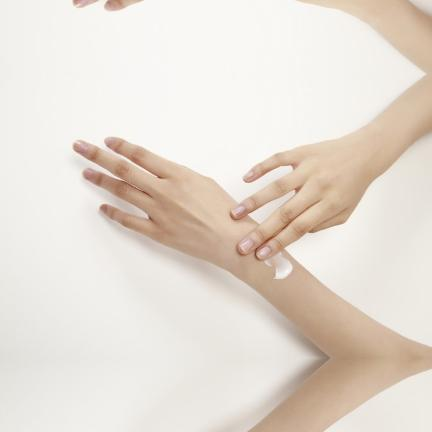Nail: (231, 205, 247, 218), (257, 245, 271, 259), (72, 139, 88, 151), (241, 239, 254, 252), (103, 135, 114, 146), (103, 0, 114, 11), (82, 168, 94, 178), (72, 0, 88, 7), (98, 204, 108, 215), (244, 171, 253, 181)
